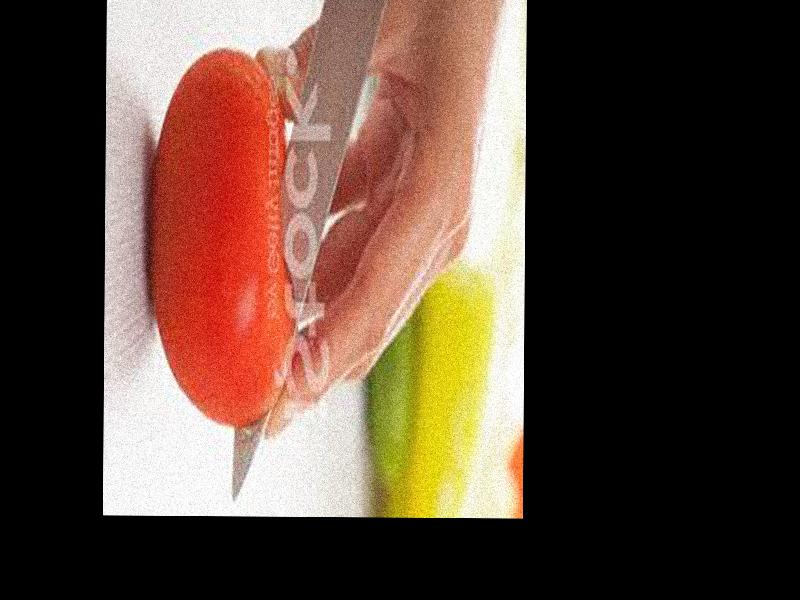Tomato: (145, 44, 295, 427)
